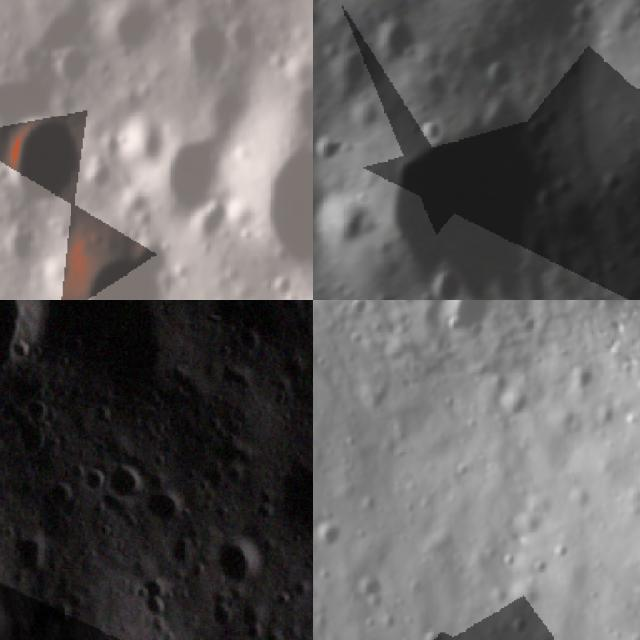crater: (372, 87, 572, 300), (240, 109, 313, 283), (128, 119, 238, 228), (3, 110, 98, 214), (52, 233, 183, 300), (260, 447, 313, 538), (313, 184, 379, 257), (174, 21, 239, 95), (202, 528, 268, 594), (101, 0, 165, 62), (327, 49, 378, 112), (374, 12, 428, 70), (118, 114, 174, 168), (437, 300, 503, 345), (49, 38, 100, 94), (140, 484, 194, 530), (488, 380, 533, 426), (98, 458, 145, 501), (483, 48, 521, 99), (313, 132, 355, 175), (412, 111, 452, 154), (428, 268, 472, 300), (357, 569, 388, 613), (313, 513, 345, 550), (569, 362, 596, 400), (80, 468, 110, 497), (506, 613, 535, 640), (341, 432, 363, 458), (552, 536, 573, 563), (419, 625, 455, 640), (601, 406, 623, 429), (440, 393, 460, 415), (533, 560, 551, 582), (456, 461, 472, 483), (503, 549, 516, 573), (351, 300, 372, 313)
